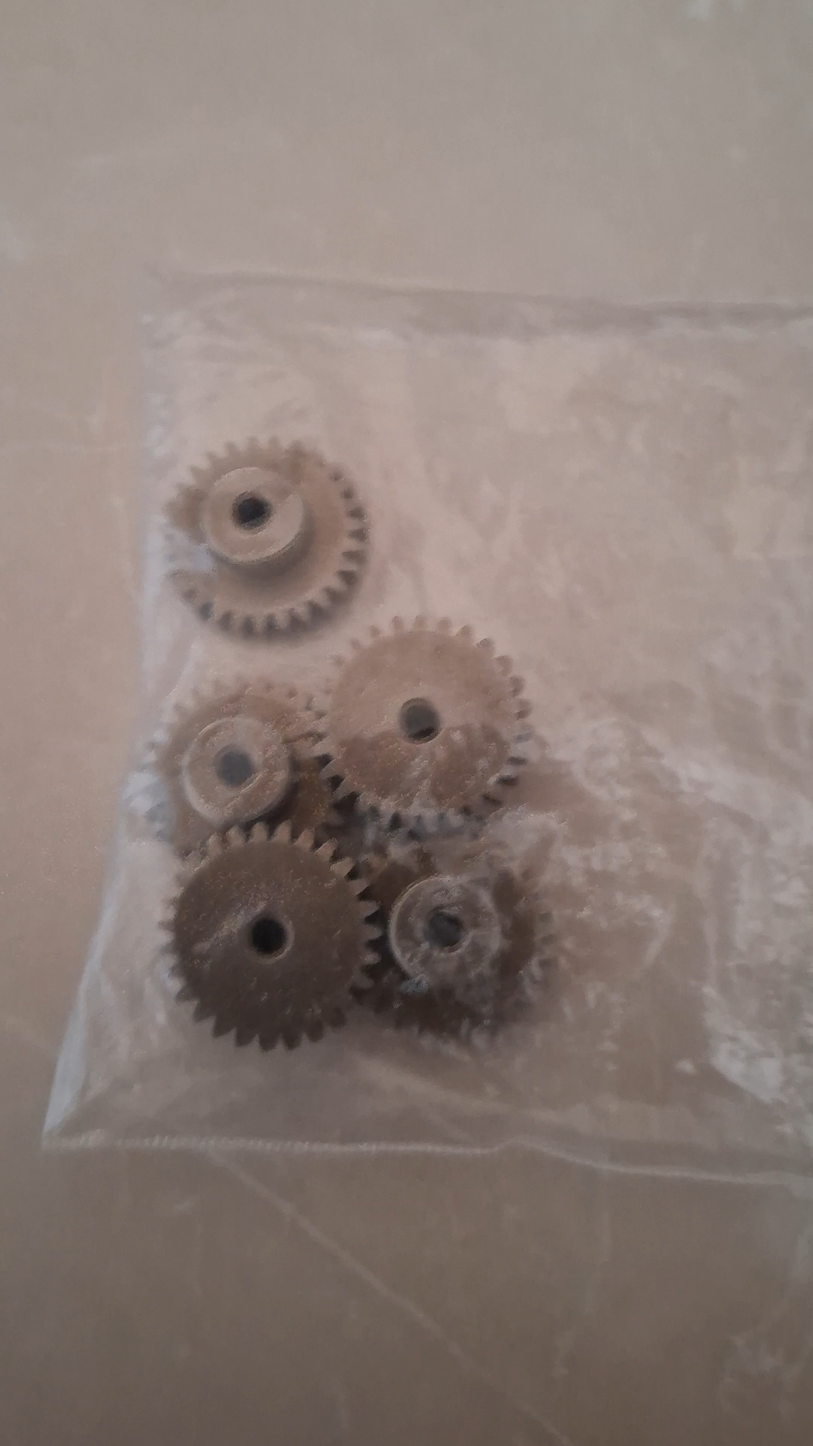spur gear: (167, 822, 380, 1049), (319, 619, 530, 832), (167, 439, 365, 635), (358, 846, 553, 1036), (147, 683, 331, 853)
